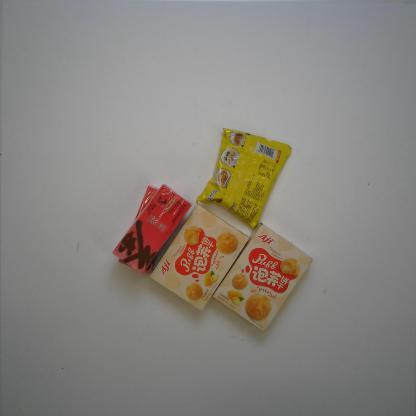Dessert: (212, 221, 313, 332), (148, 202, 250, 311)
Instant Drink: (112, 183, 193, 275), (118, 185, 171, 275)
Instant Noodles: (196, 127, 292, 232)
